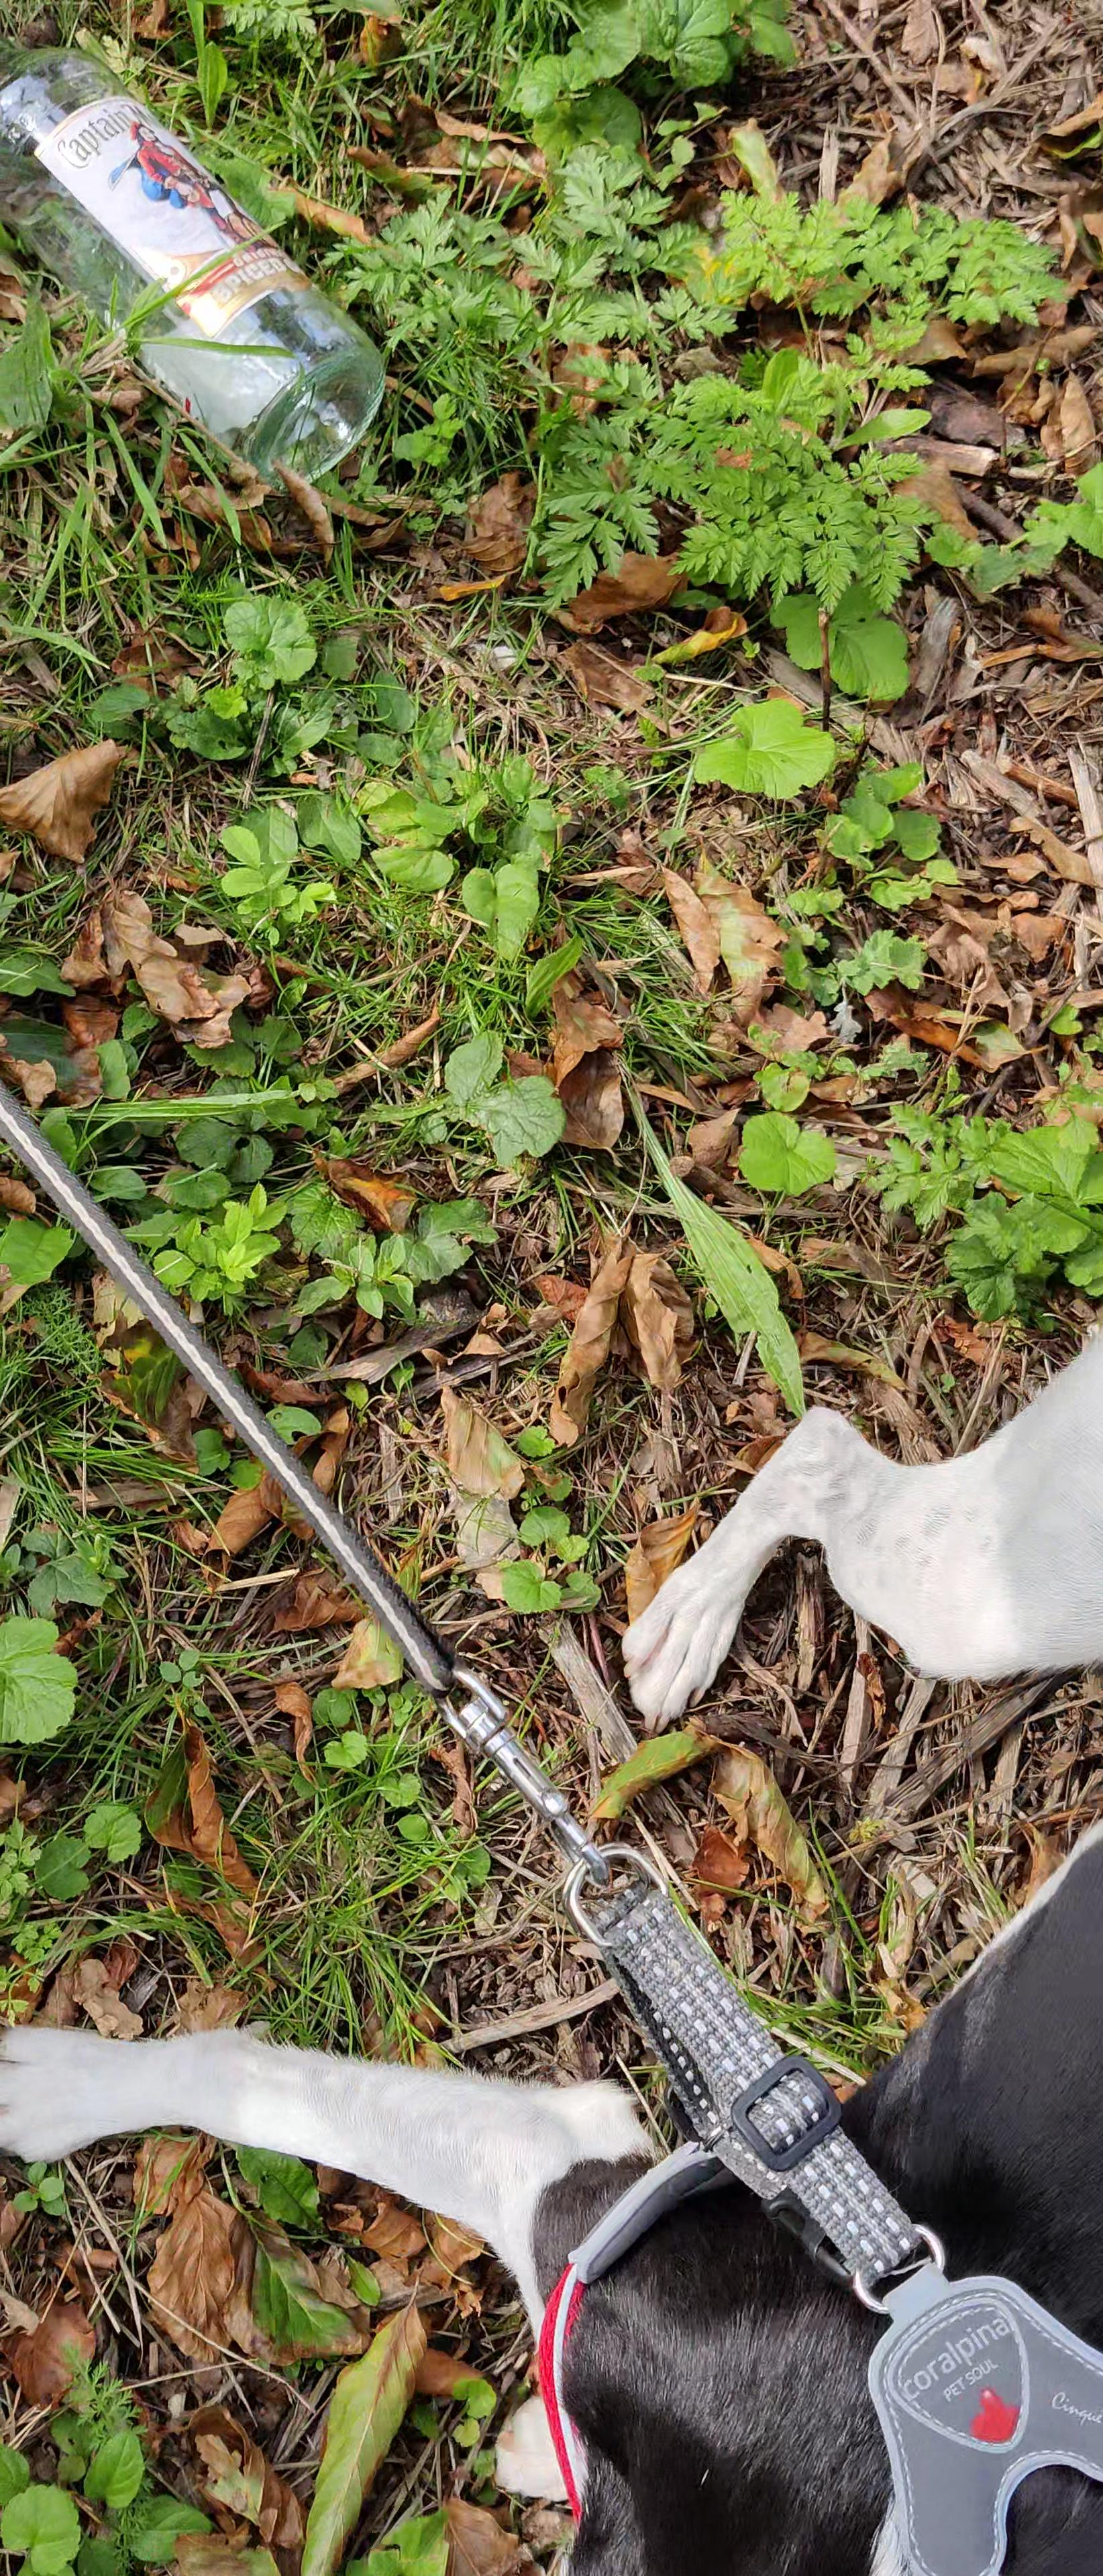Dog: (0, 1321, 1103, 2576)
